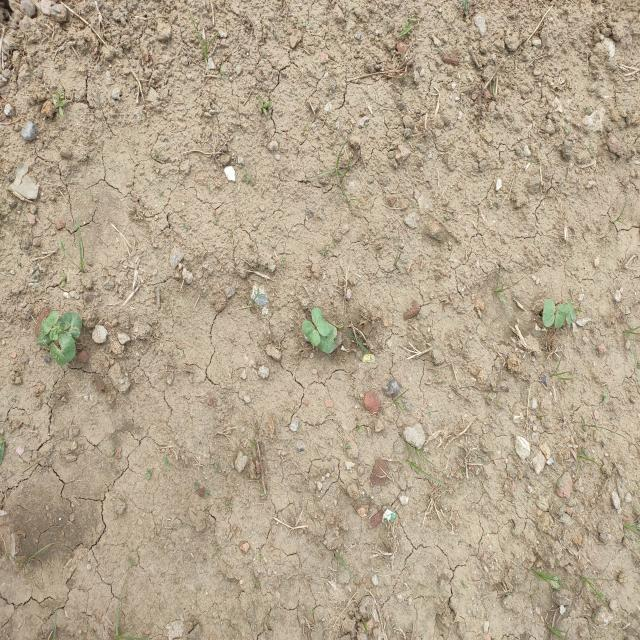seedling: (50, 332, 75, 365), (311, 308, 334, 337), (40, 310, 62, 340), (58, 312, 81, 338), (302, 320, 320, 345), (542, 300, 555, 328), (319, 332, 336, 353), (554, 305, 568, 328), (565, 300, 576, 325), (36, 332, 51, 347)
